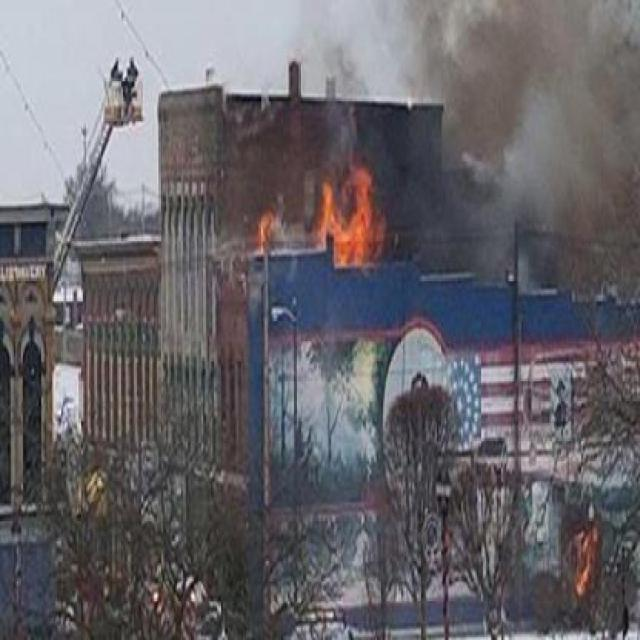Fire: (242, 176, 420, 292), (546, 460, 612, 634)
Smoke: (400, 0, 640, 314)
